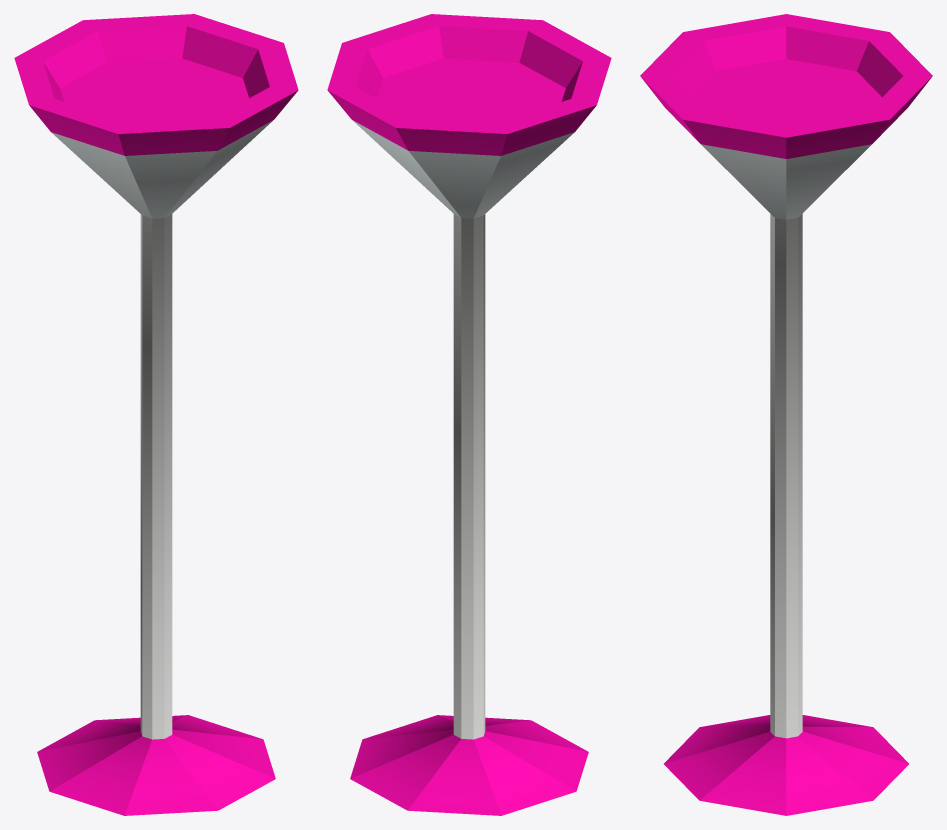
File: lamp.fbx
The picture shows the model from 3 angles, left to right: view 1: azimuth 30°, elevation 25°; view 2: azimuth 150°, elevation 25°; view 3: azimuth 270°, elevation 25°; orthographic projection.
Visible parts, largest first — view 1: pCylinder1; view 2: pCylinder1; view 3: pCylinder1.
Boxes of the visible parts, box(x1,y1,x2,y2) form: pCylinder1: box(14, 14, 298, 815); pCylinder1: box(327, 14, 611, 815); pCylinder1: box(640, 14, 932, 815).
Bounding box in the file's own units: 2.34 × 6.06 × 2.34.
